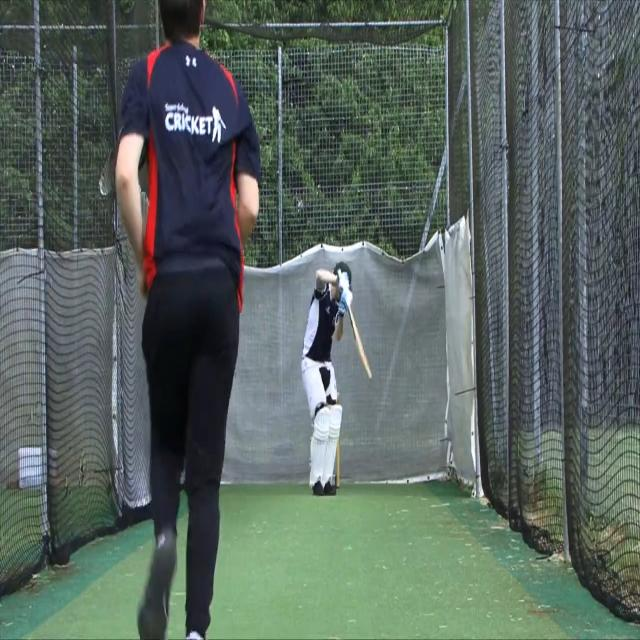batsman: (299, 264, 374, 498)
